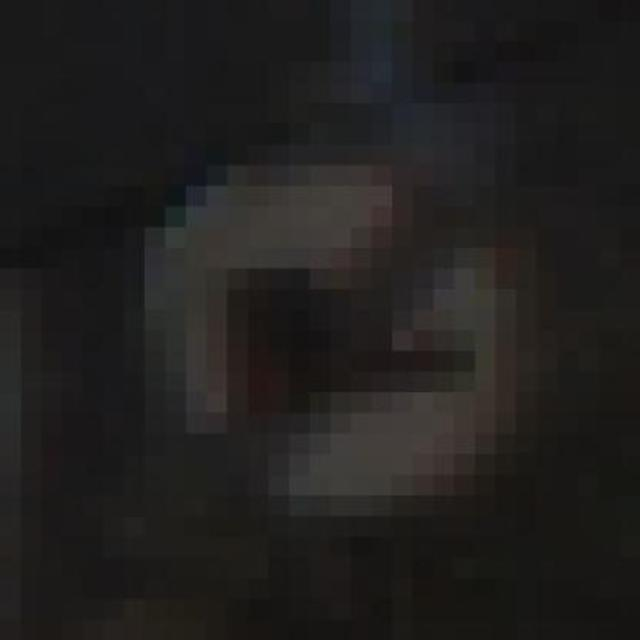Overtaking by trucks is prohibited: (103, 103, 537, 537)
